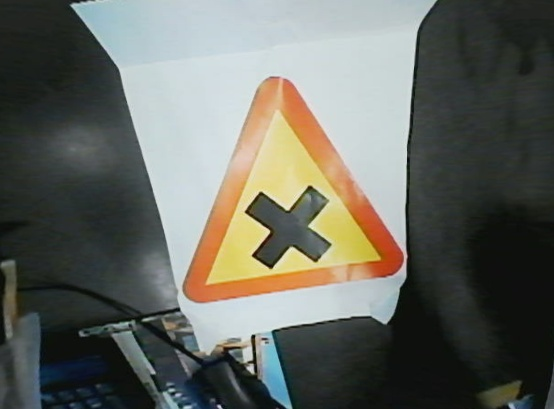junction: (170, 76, 406, 322)
